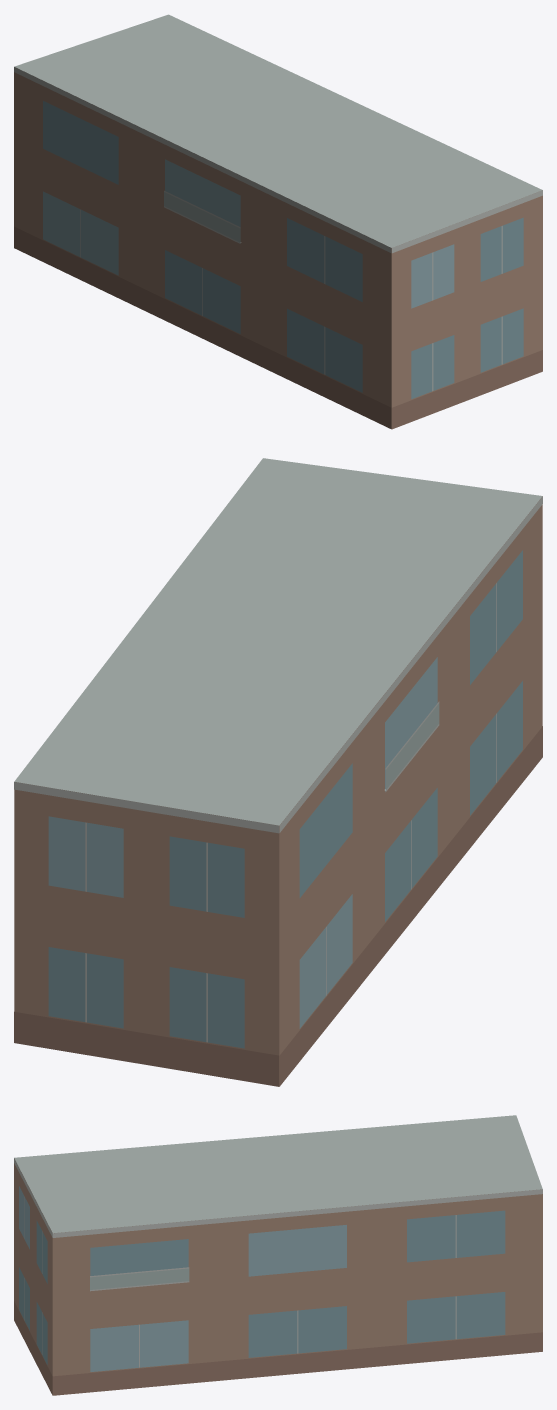
File: survey-upis-33027871.glb
3 views of the same model, one above another, from view 1: azimuth 30°, elevation 25°; view 2: azimuth 150°, elevation 25°; view 3: azimuth 270°, elevation 25° (orthographic). The views are drawn at different scales.
Visible parts, largest first — view 1: survey-upis-33027871.tmp; view 2: survey-upis-33027871.tmp; view 3: survey-upis-33027871.tmp.
Boxes of the visible parts, x1,y1,x2,y2 form: survey-upis-33027871.tmp: [14, 14, 542, 429]; survey-upis-33027871.tmp: [14, 458, 542, 1086]; survey-upis-33027871.tmp: [14, 1115, 542, 1395].
Size of the model in its own units: 12.71 by 8.15 by 24.04.
